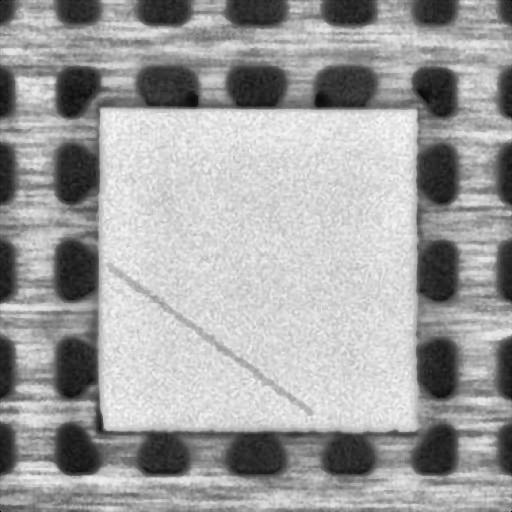DIE_CRACK: (109, 260, 314, 404)
